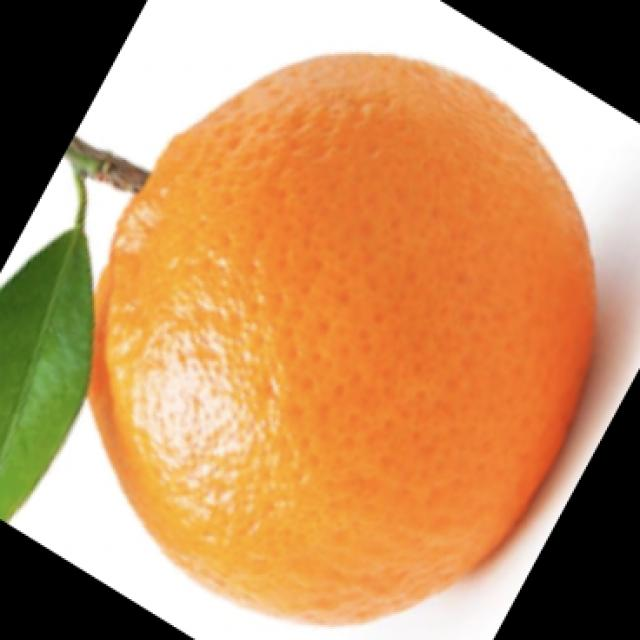fresh: (2, 39, 606, 629)
